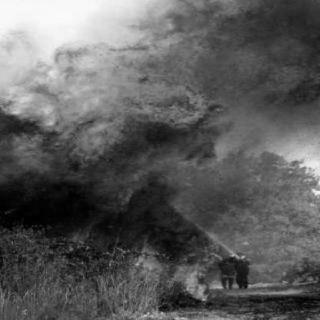Fire: (72, 216, 219, 292)
Smoke: (146, 0, 320, 92), (2, 167, 105, 233)
